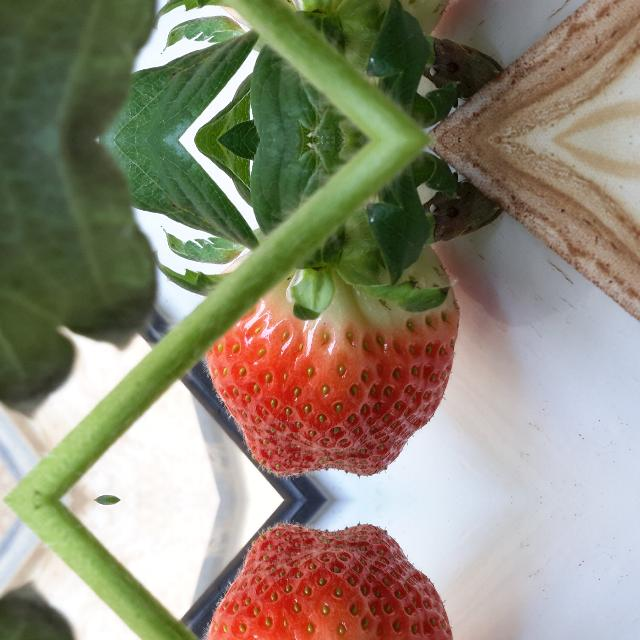Health_100: (202, 245, 460, 480), (202, 520, 459, 640)
